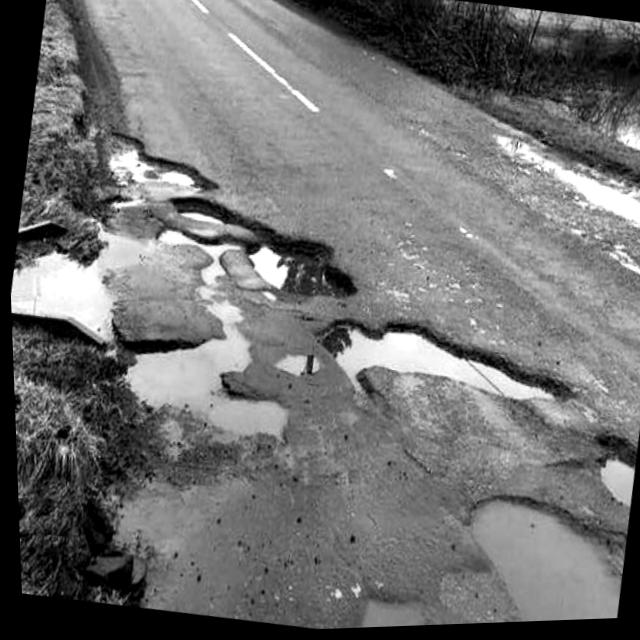pathole: (15, 97, 640, 631)
